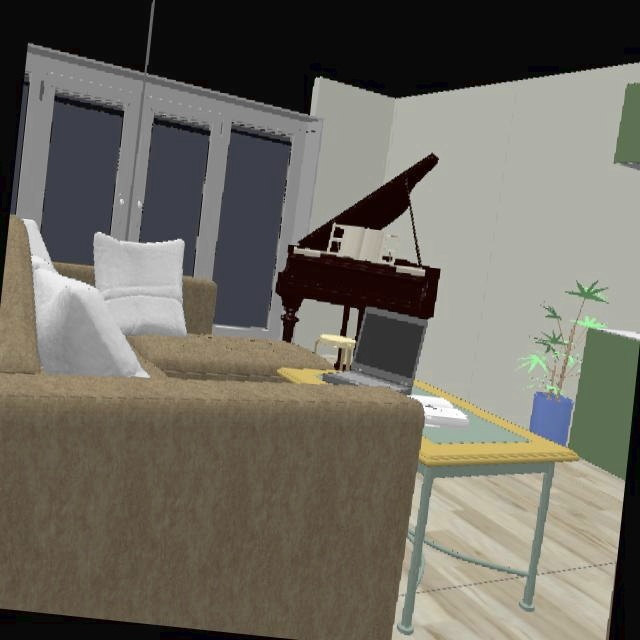book: (412, 383, 472, 440)
cabinet: (567, 325, 640, 482), (613, 82, 640, 172)
laptop: (319, 306, 428, 396)
pillow: (22, 219, 185, 379)
sofa: (0, 215, 425, 640)
table: (414, 383, 577, 511)
